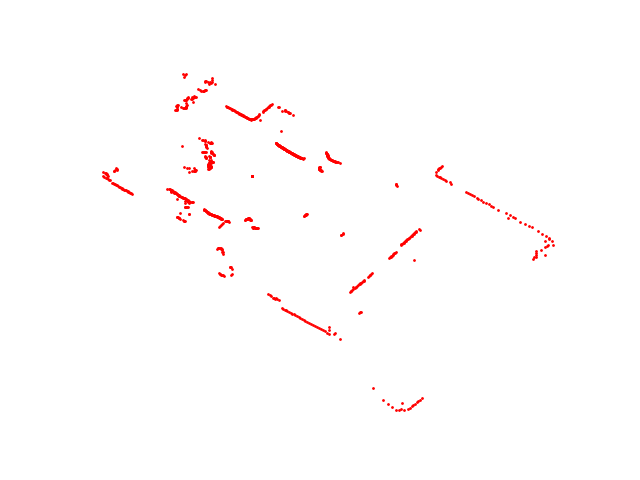person: (241, 214, 261, 233)
